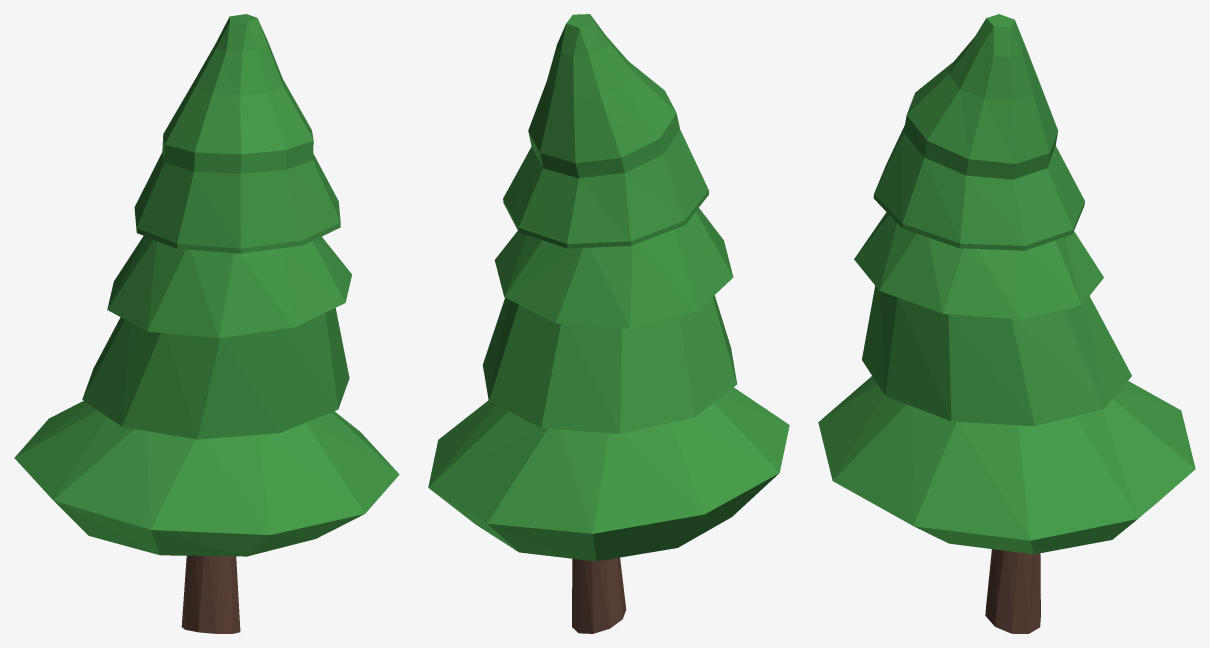
Rendered from tree.gltf.
The picture shows the model from 3 angles, left to right: view 1: azimuth 30°, elevation 25°; view 2: azimuth 150°, elevation 25°; view 3: azimuth 270°, elevation 25°; orthographic projection. The views are drawn at different scales.
Parts seen in each view (by area): view 1: node_MeshObject-2031020032-PolyPaper10; view 2: node_MeshObject-2031020032-PolyPaper10; view 3: node_MeshObject-2031020032-PolyPaper10.
Boxes of the visible parts, box(x1,y1,x2,y2) form: node_MeshObject-2031020032-PolyPaper10: box(14, 14, 399, 633); node_MeshObject-2031020032-PolyPaper10: box(428, 14, 789, 633); node_MeshObject-2031020032-PolyPaper10: box(818, 14, 1195, 633).
Size of the model in its own units: 0.3557 by 0.6365 by 0.3528.
